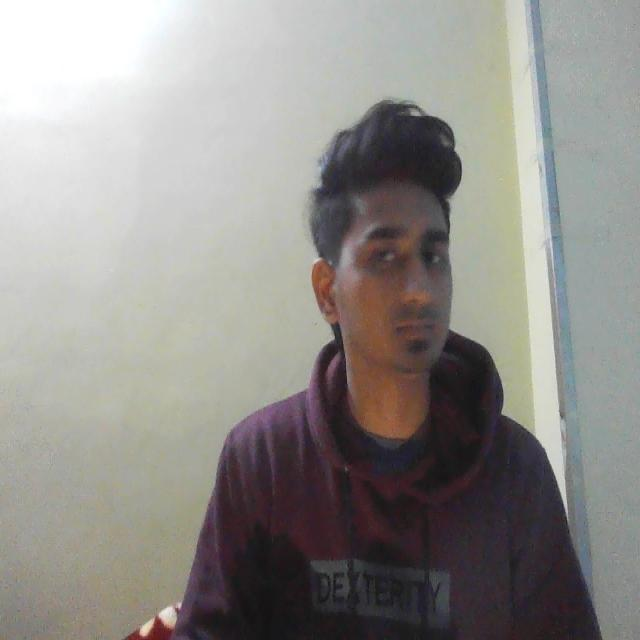real: (328, 133, 460, 383)
